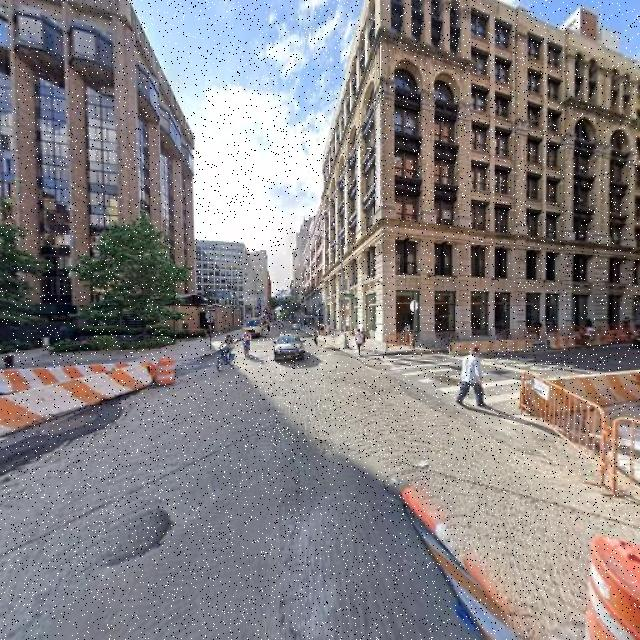Building: (327, 1, 640, 347), (1, 1, 193, 350)
